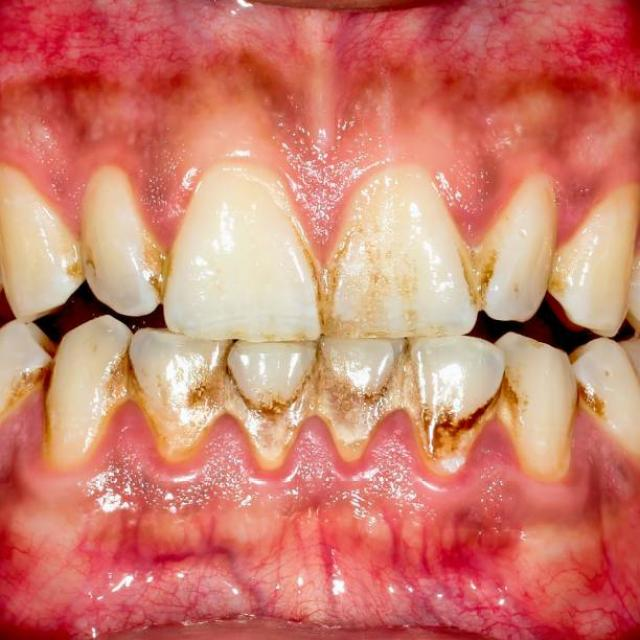calculus: (247, 168, 412, 338), (385, 357, 547, 477), (232, 339, 315, 482), (319, 354, 394, 468), (152, 358, 231, 457), (20, 349, 57, 466), (449, 225, 504, 297), (54, 229, 111, 289), (538, 242, 592, 303), (140, 225, 177, 306), (569, 368, 612, 431), (102, 349, 144, 411)
